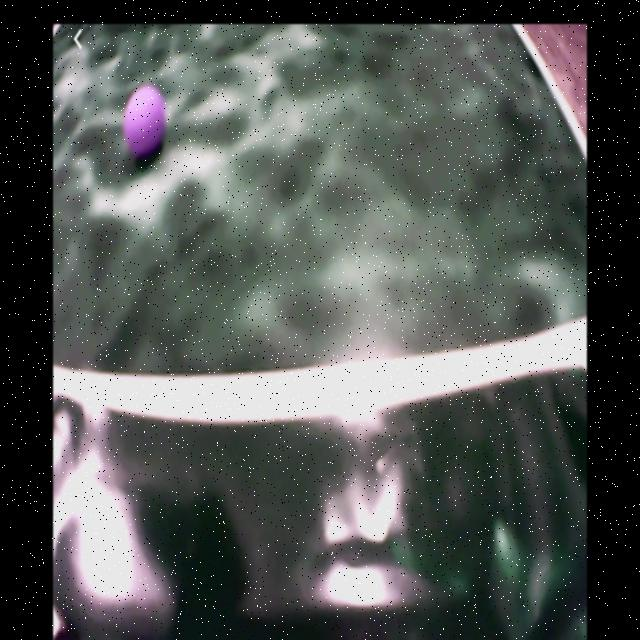ball: (125, 84, 166, 156)
